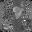people: (13, 6, 23, 19)
